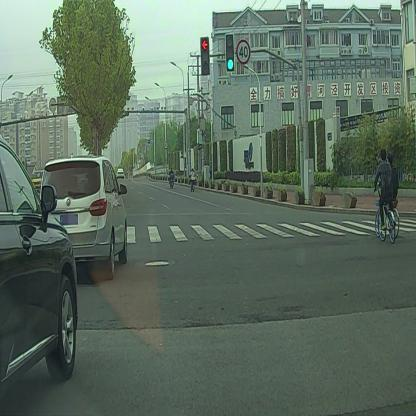Green Light: (226, 34, 235, 74)
